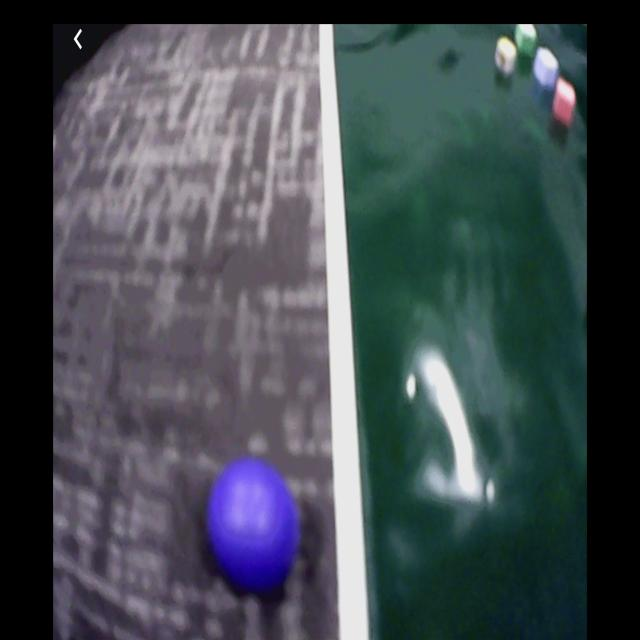ball: (210, 458, 301, 594)
